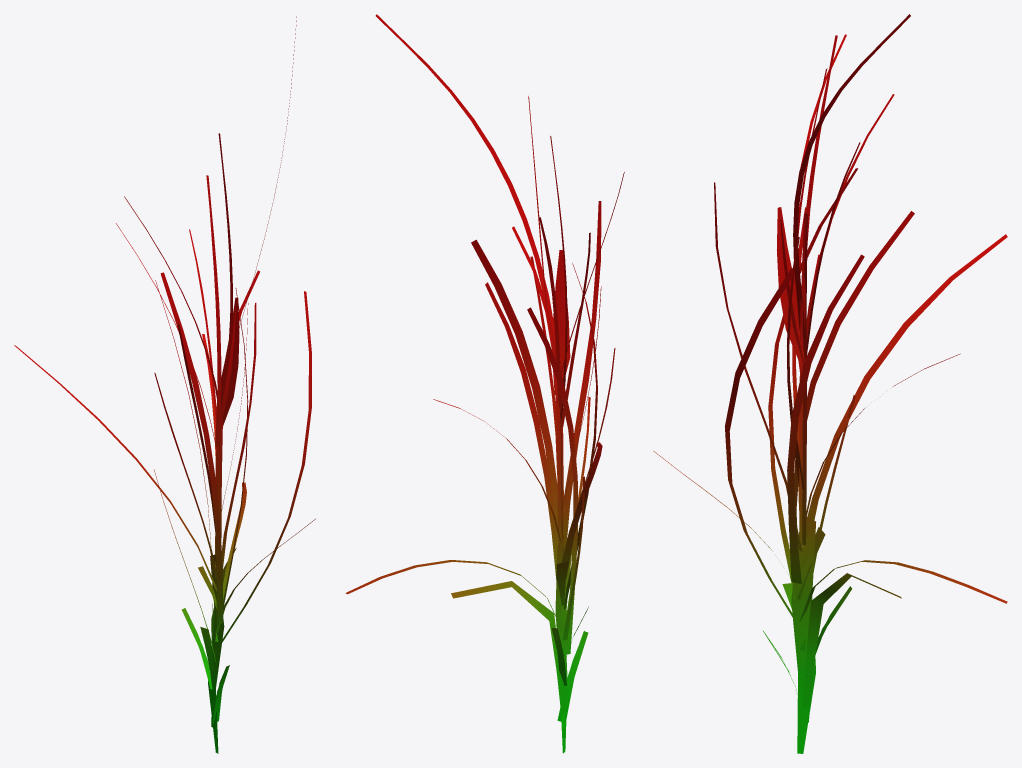
File: Sea Wheatgrass_LOD1_Var9_ui2oagjia.fbx
3 views of the same model, side by side, from view 1: azimuth 30°, elevation 25°; view 2: azimuth 150°, elevation 25°; view 3: azimuth 270°, elevation 25° (orthographic). The views are drawn at different scales.
Visible parts, largest first — view 1: _zp49_Var9_LOD1; view 2: _zp49_Var9_LOD1; view 3: _zp49_Var9_LOD1.
Boxes of the visible parts, left/top/right/bottom form: _zp49_Var9_LOD1: left=14, top=16, right=315, bottom=753; _zp49_Var9_LOD1: left=345, top=14, right=624, bottom=753; _zp49_Var9_LOD1: left=653, top=14, right=1007, bottom=753.
Size of the model in its own units: 19.06 by 50.53 by 19.96.
